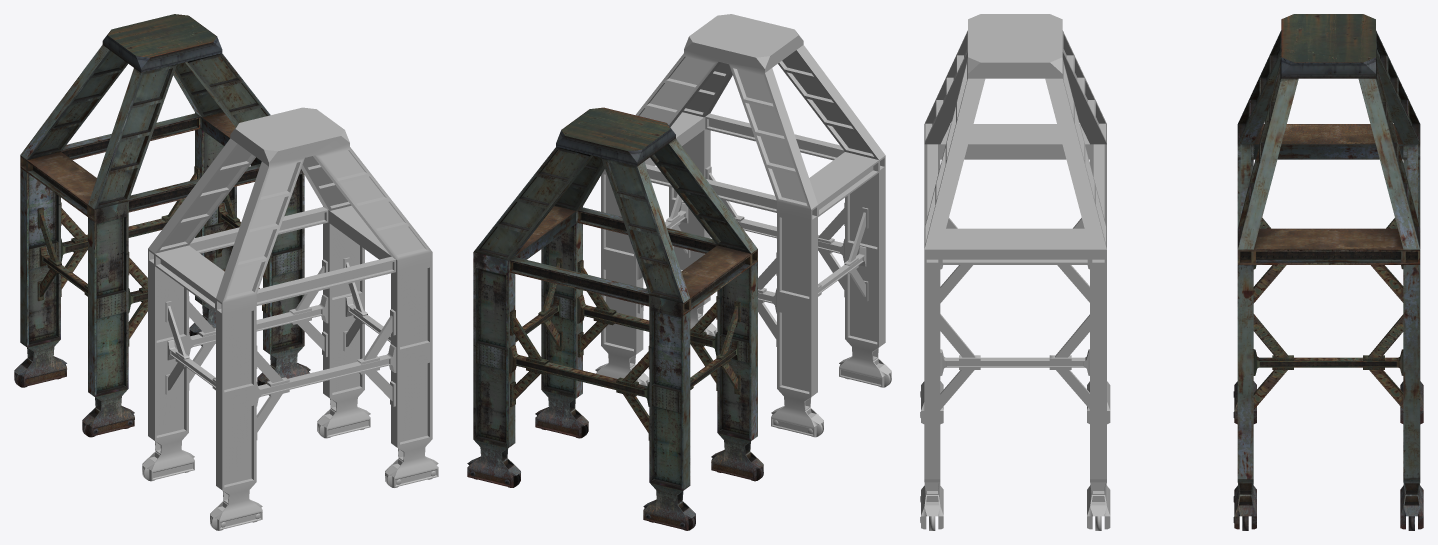
3 renders of one model, left to right at view 1: azimuth 30°, elevation 25°; view 2: azimuth 150°, elevation 25°; view 3: azimuth 270°, elevation 25°, orthographic. The views are drawn at different scales.
Visible parts, largest first — view 1: pasted__GOTHAM_Docks_Legs, GOTHAM_Docks_Legs; view 2: GOTHAM_Docks_Legs, pasted__GOTHAM_Docks_Legs; view 3: GOTHAM_Docks_Legs, pasted__GOTHAM_Docks_Legs.
Part boxes in pixels (x1,y1,x2,y2): pasted__GOTHAM_Docks_Legs: [142, 107, 438, 530]; GOTHAM_Docks_Legs: [14, 14, 310, 437]; GOTHAM_Docks_Legs: [467, 107, 763, 530]; pasted__GOTHAM_Docks_Legs: [595, 14, 891, 437]; GOTHAM_Docks_Legs: [1233, 14, 1423, 530]; pasted__GOTHAM_Docks_Legs: [920, 14, 1110, 530].
Bounding box in the file's own units: 1379 × 2044 × 2174.
